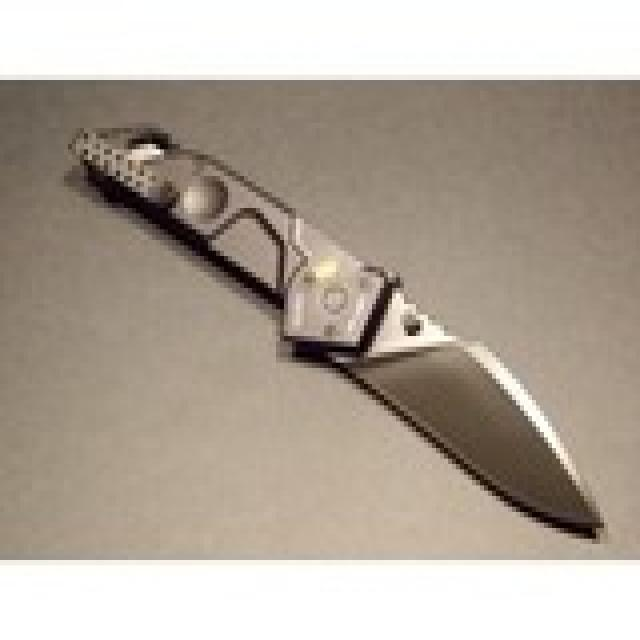Knife: (65, 106, 601, 532)
